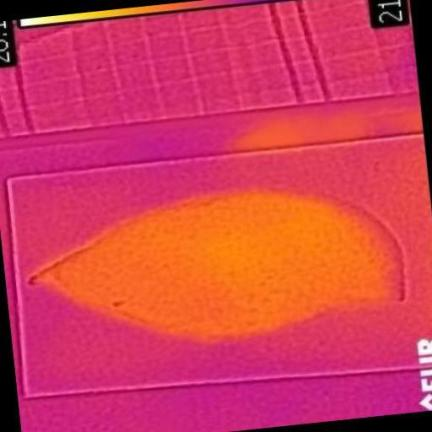mango: (30, 191, 401, 342)
